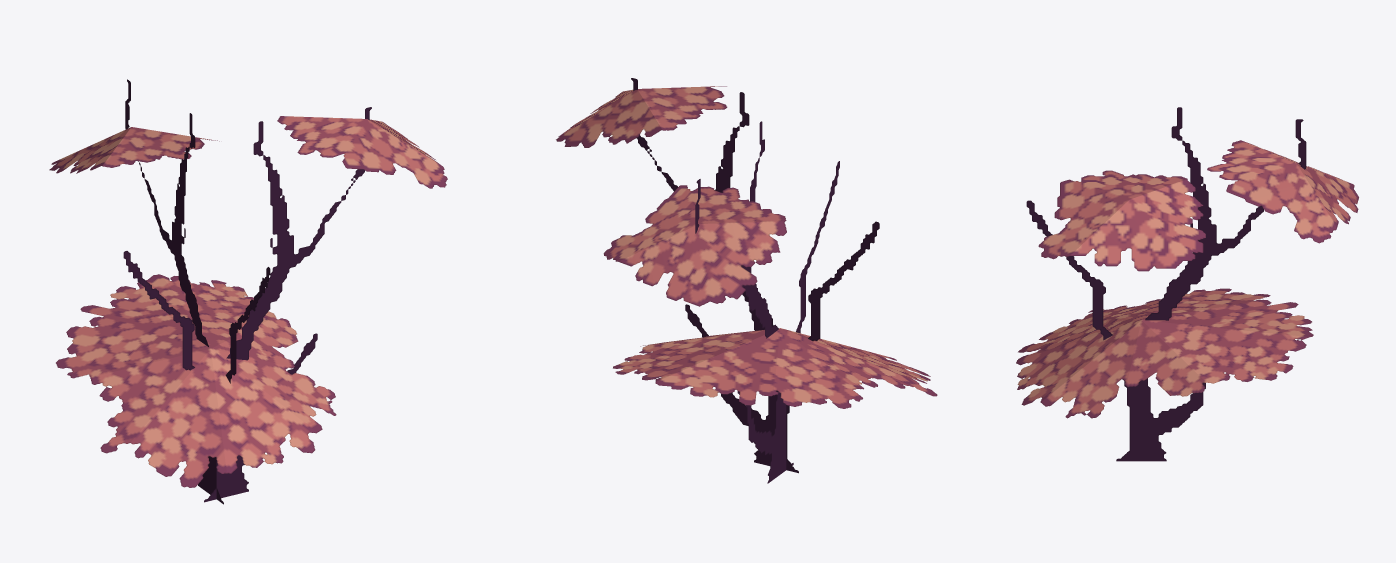
File: bush_02a.fbx
3 renders of one model, left to right at view 1: azimuth 30°, elevation 25°; view 2: azimuth 150°, elevation 25°; view 3: azimuth 270°, elevation 25°, orthographic. The views are drawn at different scales.
Parts seen in each view (by area): view 1: bush_02a; view 2: bush_02a; view 3: bush_02a.
Boxes of the visible parts, x1,y1,x2,y2 form: bush_02a: (49, 79, 447, 504); bush_02a: (556, 78, 937, 483); bush_02a: (1016, 107, 1358, 461).
Bounding box in the file's own units: 0.3012 × 0.3206 × 0.2936.
1 material, 1 textured.
